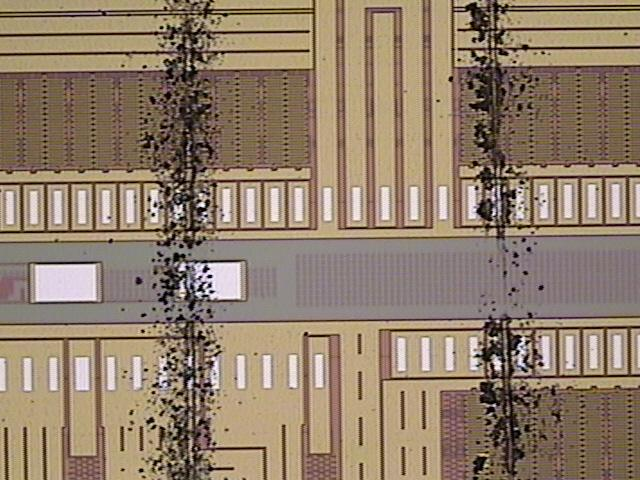SCRATCH: (120, 1, 570, 480)
